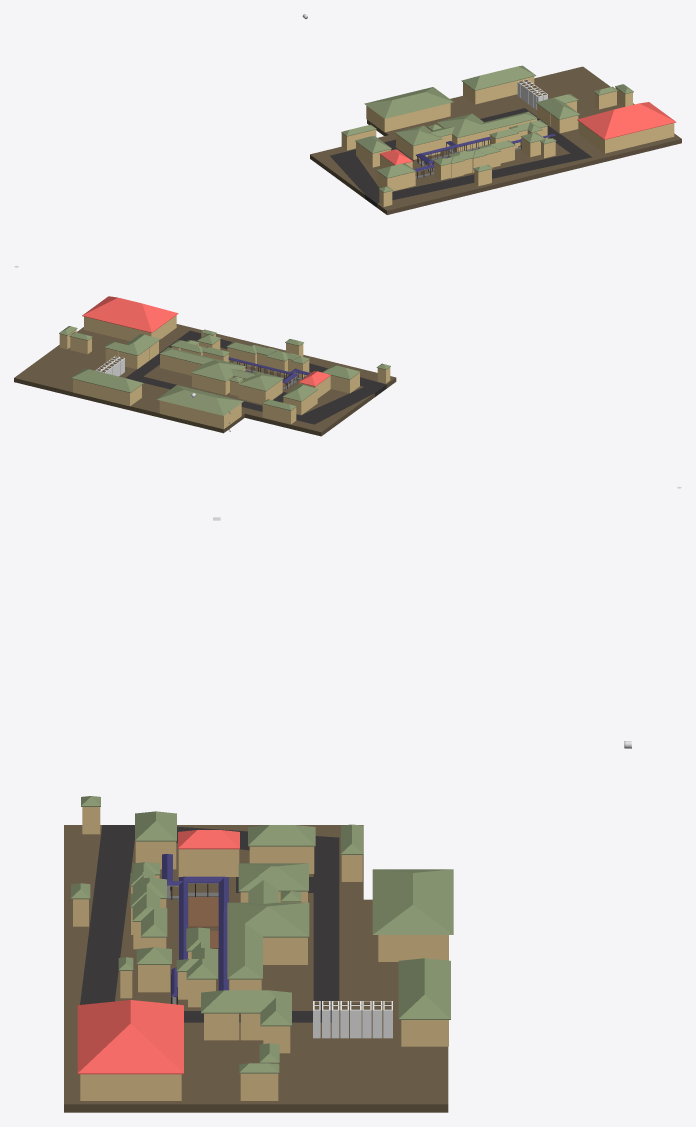
The model's file is tupnga.glb.
3 views of the same model, one above another, from view 1: azimuth 30°, elevation 25°; view 2: azimuth 150°, elevation 25°; view 3: azimuth 270°, elevation 25° (orthographic). The views are drawn at different scales.
Parts seen in each view (by area): view 1: Toposolid Grassland - 1200mm [352516], Toposolid Grassland - 1200mm [354195], Basic Roof Generic - 125mm [387914], Basic Roof Generic - 125mm [384035], Basic Roof Generic - 125mm [378573], Basic Wall Generic - 200mm [355787], Basic Wall Generic - 200mm [355672], Basic Roof Generic - 125mm [385592], Basic Roof Generic - 125mm [385698], Basic Roof Generic - 125mm [387351], Basic Wall Generic - 200mm [355773], Basic Wall Generic - 200mm [357350] (+3 smaller); view 2: Toposolid Grassland - 1200mm [352516], Toposolid Grassland - 1200mm [354195], Basic Roof Generic - 125mm [387914], Basic Roof Generic - 125mm [384035], Basic Roof Generic - 125mm [378573], Basic Wall Generic - 200mm [355757], Basic Roof Generic - 125mm [385592], Basic Wall Generic - 200mm [355771], Basic Wall Generic - 200mm [355789], Basic Roof Generic - 125mm [385698], Basic Roof Generic - 125mm [387351], Basic Wall Generic - 200mm [357221] (+8 smaller); view 3: Toposolid Grassland - 1200mm [352516], Toposolid Grassland - 1200mm [354195], Basic Roof Generic - 125mm [387914], Basic Roof Generic - 125mm [384035], Basic Roof Generic - 125mm [378573], Basic Roof Generic - 125mm [385592], Basic Wall Generic - 200mm [355788], Basic Roof Generic - 125mm [389243], Basic Roof Generic - 125mm [387351], Basic Roof Generic - 125mm [385698], Basic Wall Generic - 200mm [355719], Basic Wall Generic - 200mm [356699] (+11 smaller).
Part boxes in pixels (bbox=[...]): Toposolid Grassland - 1200mm [352516]: bbox=[310, 66, 681, 214]; Toposolid Grassland - 1200mm [354195]: bbox=[330, 108, 591, 207]; Basic Roof Generic - 125mm [387914]: bbox=[577, 102, 676, 139]; Basic Roof Generic - 125mm [384035]: bbox=[395, 111, 537, 146]; Basic Roof Generic - 125mm [378573]: bbox=[364, 87, 453, 118]; Basic Wall Generic - 200mm [355787]: bbox=[606, 123, 674, 153]; Basic Wall Generic - 200mm [355672]: bbox=[385, 103, 450, 132]; Basic Roof Generic - 125mm [385592]: bbox=[461, 65, 536, 90]; Basic Roof Generic - 125mm [385698]: bbox=[433, 140, 515, 165]; Basic Roof Generic - 125mm [387351]: bbox=[536, 94, 580, 119]; Basic Wall Generic - 200mm [355773]: bbox=[476, 76, 534, 104]; Basic Wall Generic - 200mm [357350]: bbox=[457, 119, 536, 151]; Toposolid Grassland - 1200mm [352516]: bbox=[14, 324, 396, 436]; Toposolid Grassland - 1200mm [354195]: bbox=[126, 330, 386, 424]; Basic Roof Generic - 125mm [387914]: bbox=[82, 296, 178, 332]; Basic Roof Generic - 125mm [384035]: bbox=[160, 347, 283, 391]; Basic Roof Generic - 125mm [378573]: bbox=[157, 385, 243, 415]; Basic Wall Generic - 200mm [355757]: bbox=[160, 400, 223, 428]; Basic Roof Generic - 125mm [385592]: bbox=[71, 368, 143, 392]; Basic Wall Generic - 200mm [355771]: bbox=[73, 379, 130, 406]; Basic Wall Generic - 200mm [355789]: bbox=[84, 317, 151, 340]; Basic Roof Generic - 125mm [385698]: bbox=[227, 342, 309, 364]; Basic Roof Generic - 125mm [387351]: bbox=[104, 334, 160, 355]; Basic Wall Generic - 200mm [357221]: bbox=[160, 354, 201, 375]; Toposolid Grassland - 1200mm [352516]: bbox=[64, 825, 448, 1112]; Toposolid Grassland - 1200mm [354195]: bbox=[80, 825, 339, 1022]; Basic Roof Generic - 125mm [387914]: bbox=[77, 1000, 183, 1074]; Basic Roof Generic - 125mm [384035]: bbox=[227, 863, 309, 979]; Basic Roof Generic - 125mm [378573]: bbox=[372, 869, 453, 934]; Basic Roof Generic - 125mm [385592]: bbox=[398, 958, 450, 1019]; Basic Wall Generic - 200mm [355788]: bbox=[81, 1074, 181, 1100]; Basic Roof Generic - 125mm [389243]: bbox=[162, 854, 228, 996]; Basic Roof Generic - 125mm [387351]: bbox=[201, 990, 291, 1026]; Basic Roof Generic - 125mm [385698]: bbox=[130, 862, 167, 937]; Basic Wall Generic - 200mm [355719]: bbox=[380, 935, 448, 961]; Basic Wall Generic - 200mm [356699]: bbox=[180, 849, 239, 876].
Size of the model in its own units: 183 by 21.85 by 73.91.
